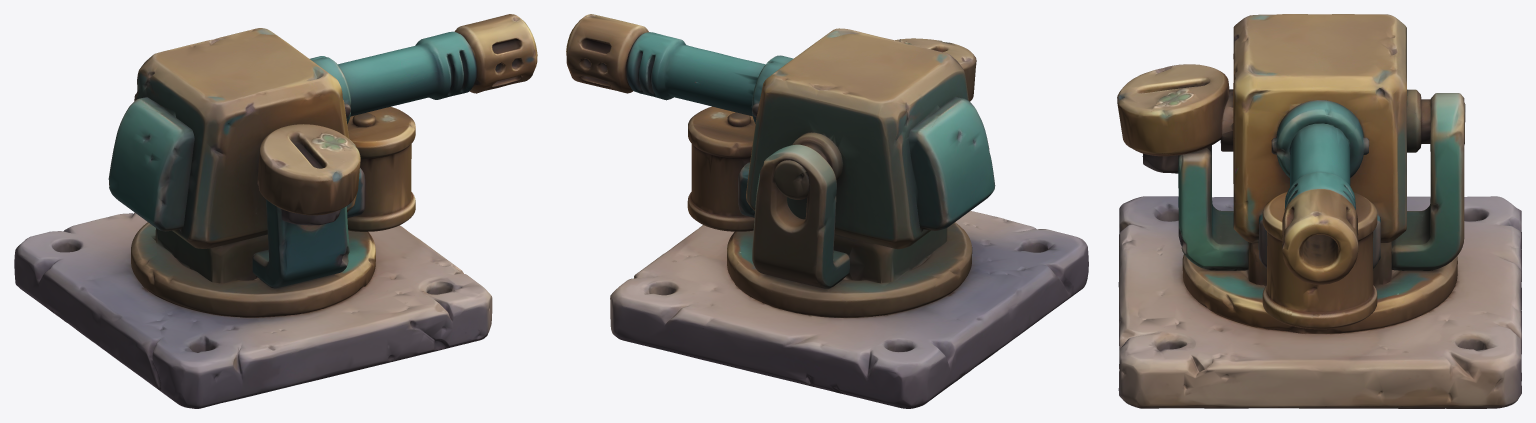
The model's file is blaster_small.glb.
The picture shows the model from 3 angles, left to right: view 1: azimuth 30°, elevation 25°; view 2: azimuth 150°, elevation 25°; view 3: azimuth 270°, elevation 25°; orthographic projection. The views are drawn at different scales.
Visible parts, largest first — view 1: tripo_part_0, tripo_part_3, tripo_part_1, tripo_part_12, tripo_part_5, tripo_part_8, tripo_part_2, tripo_part_6, tripo_part_7, tripo_part_9, tripo_part_10; view 2: tripo_part_0, tripo_part_3, tripo_part_1, tripo_part_4, tripo_part_12, tripo_part_8, tripo_part_2, tripo_part_7, tripo_part_9, tripo_part_11, tripo_part_5, tripo_part_10; view 3: tripo_part_0, tripo_part_3, tripo_part_5, tripo_part_1, tripo_part_2, tripo_part_4, tripo_part_7, tripo_part_6, tripo_part_8, tripo_part_10, tripo_part_11, tripo_part_9.
Part boxes in pixels (<box>): tripo_part_0: <box>14,212,492,408</box>; tripo_part_3: <box>134,28,365,248</box>; tripo_part_1: <box>131,222,375,317</box>; tripo_part_12: <box>108,97,194,233</box>; tripo_part_5: <box>257,124,360,225</box>; tripo_part_8: <box>338,31,476,116</box>; tripo_part_2: <box>347,106,415,231</box>; tripo_part_6: <box>252,199,349,288</box>; tripo_part_7: <box>454,14,537,93</box>; tripo_part_9: <box>150,228,268,283</box>; tripo_part_10: <box>310,56,351,124</box>; tripo_part_0: <box>610,211,1088,408</box>; tripo_part_3: <box>738,28,968,249</box>; tripo_part_1: <box>727,222,972,318</box>; tripo_part_4: <box>752,144,849,288</box>; tripo_part_12: <box>905,97,995,232</box>; tripo_part_8: <box>626,32,765,116</box>; tripo_part_2: <box>687,106,755,231</box>; tripo_part_7: <box>566,14,648,93</box>; tripo_part_9: <box>833,228,947,286</box>; tripo_part_11: <box>773,132,843,199</box>; tripo_part_5: <box>895,38,976,101</box>; tripo_part_10: <box>751,55,793,123</box>; tripo_part_0: <box>1118,196,1521,408</box>; tripo_part_3: <box>1222,14,1407,268</box>; tripo_part_5: <box>1117,64,1233,173</box>; tripo_part_1: <box>1182,254,1459,334</box>; tripo_part_2: <box>1262,191,1377,329</box>; tripo_part_4: <box>1391,93,1464,270</box>; tripo_part_7: <box>1282,189,1358,284</box>; tripo_part_6: <box>1176,145,1248,270</box>; tripo_part_8: <box>1284,123,1355,209</box>; tripo_part_10: <box>1271,100,1369,177</box>; tripo_part_11: <box>1407,89,1465,152</box>; tripo_part_9: <box>1248,242,1396,286</box>.
Bounding box in the file's own units: 0.9794 × 0.5423 × 0.7246.
1 material, 1 textured.
